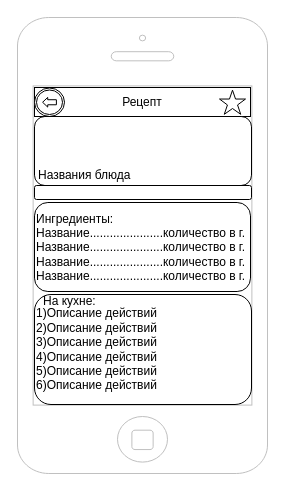
Some shapes in this 285 by 491 pixel diagram are drawn without their labels. Each missing label, with the box of its shape:
вес/ккал/ккал-100г: (34, 184, 252, 200)
ФОТО БЛЮДА: (34, 116, 252, 186)
